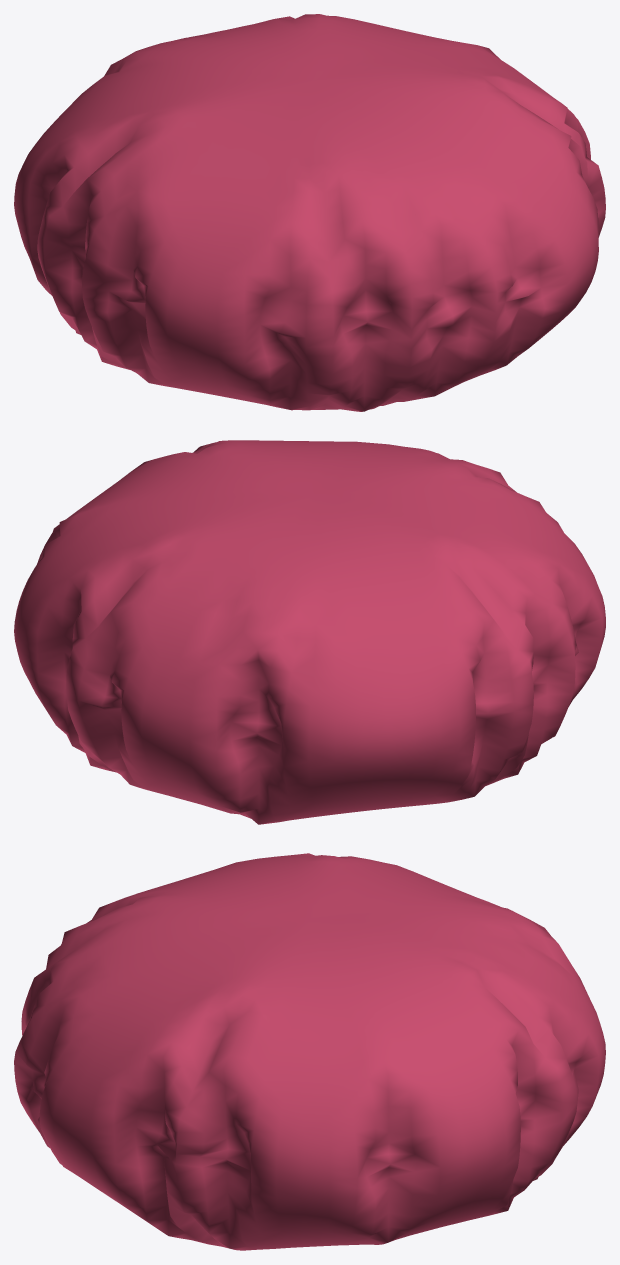
File: cushionR.fbx
3 views of the same model, one above another, from view 1: azimuth 30°, elevation 25°; view 2: azimuth 150°, elevation 25°; view 3: azimuth 270°, elevation 25° (orthographic).
Visible parts, largest first — view 1: CUsion_R; view 2: CUsion_R; view 3: CUsion_R.
Boxes of the visible parts, x1,y1,x2,y2 form: CUsion_R: (14, 14, 605, 411); CUsion_R: (14, 440, 605, 824); CUsion_R: (14, 853, 605, 1250).
Bounding box in the file's own units: 40 × 20 × 40.
